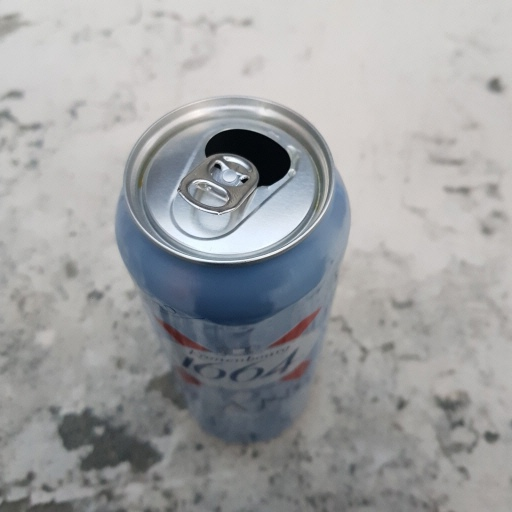Metal_0: (112, 97, 355, 445)
